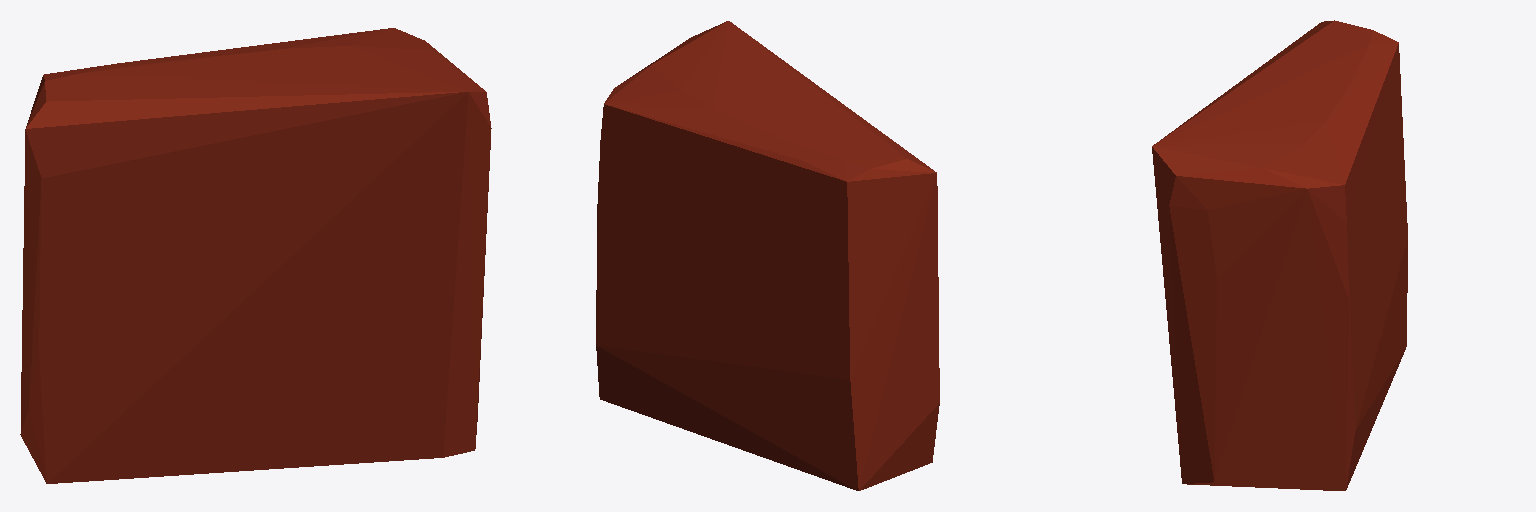
The robot description file, URDF, robot "obj_01":
<?xml version="1.0"?>
<robot name="obj_01">
  <!-- book: paper, 1935 g. Written by Darius 0.2.0. Link frame: +z up, origin at the capture-time bounding-box center; place it at the pose in world.json -->
  <mujoco>
    <compiler meshdir="../meshes/" discardvisual="true" balanceinertia="true" fusestatic="false" />
  </mujoco>
  <link name="obj_01">
    <inertial>
      <origin xyz="0.01245 -0.00169 0.00569" rpy="0 0 0" />
      <mass value="1.9352" />
      <inertia ixx="0.00721729" ixy="0.0019662" ixz="-0.000167126" iyy="0.0128337" iyz="-1.50938e-05" izz="0.00854294" />
    </inertial>
    <visual>
      <geometry>
        <mesh filename="../meshes/obj_01_visual.obj" />
      </geometry>
      <material name="obj_01_color">
        <color rgba="0.549 0.2 0.129 1" />
      </material>
    </visual>
    <collision name="obj_01_part0">
      <geometry>
        <mesh filename="../meshes/obj_01_part0.obj" />
      </geometry>
    </collision>
    <collision name="obj_01_part1">
      <geometry>
        <mesh filename="../meshes/obj_01_part1.obj" />
      </geometry>
    </collision>
    <collision name="obj_01_part2">
      <geometry>
        <mesh filename="../meshes/obj_01_part2.obj" />
      </geometry>
    </collision>
    <collision name="obj_01_part3">
      <geometry>
        <mesh filename="../meshes/obj_01_part3.obj" />
      </geometry>
    </collision>
    <collision name="obj_01_part4">
      <geometry>
        <mesh filename="../meshes/obj_01_part4.obj" />
      </geometry>
    </collision>
    <collision name="obj_01_part5">
      <geometry>
        <mesh filename="../meshes/obj_01_part5.obj" />
      </geometry>
    </collision>
    <collision name="obj_01_part6">
      <geometry>
        <mesh filename="../meshes/obj_01_part6.obj" />
      </geometry>
    </collision>
    <collision name="obj_01_part7">
      <geometry>
        <mesh filename="../meshes/obj_01_part7.obj" />
      </geometry>
    </collision>
    <contact>
      <lateral_friction value="0.55" />
      <restitution value="0.1" />
    </contact>
  </link>
</robot>

--- What the picture shows (computed from the rendered views, not written in the file) ---
The picture shows the robot from 3 angles, left to right: view 1: azimuth 30°, elevation 25°; view 2: azimuth 150°, elevation 25°; view 3: azimuth 270°, elevation 25°; orthographic projection.
Robot: obj_01 — 1 links, 0 joints (none); root link obj_01; default pose: every joint at zero.
Visible links, largest first — view 1: obj_01; view 2: obj_01; view 3: obj_01.
Boxes of the visible links, x1=… form: obj_01: x1=20, y1=28, x2=491, y2=483; obj_01: x1=596, y1=21, x2=939, y2=490; obj_01: x1=1152, y1=20, x2=1407, y2=490.
Bounding box of the posed robot: 0.199 × 0.13 × 0.1834 m (x, y, z).
Meshes: 1 distinct files referenced, 1 mesh visuals loaded (1 OBJ).
